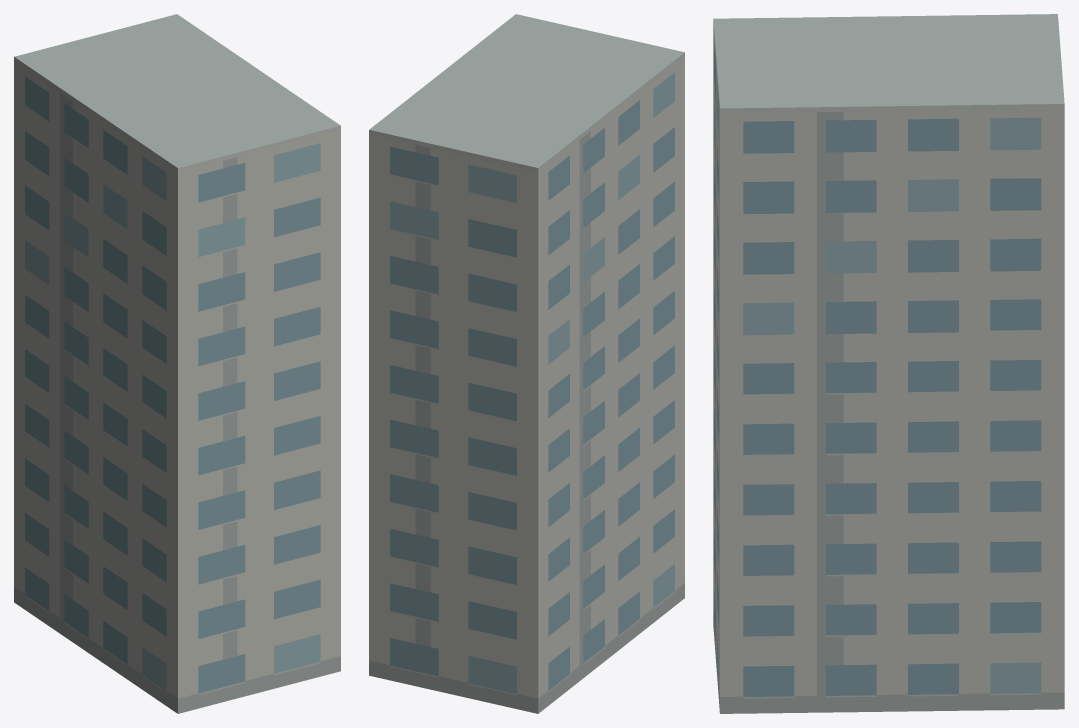
Rendered from residential-fce57227-747a-449e-b39d-3524b348dd30.glb.
3 renders of one model, left to right at view 1: azimuth 30°, elevation 25°; view 2: azimuth 150°, elevation 25°; view 3: azimuth 270°, elevation 25°, orthographic. The views are drawn at different scales.
Parts seen in each view (by area): view 1: residential-fce57227-747a-449e-b39d-3524b348dd30.tmp; view 2: residential-fce57227-747a-449e-b39d-3524b348dd30.tmp; view 3: residential-fce57227-747a-449e-b39d-3524b348dd30.tmp.
Part boxes in pixels (box(x1,y1,x2,y2)): residential-fce57227-747a-449e-b39d-3524b348dd30.tmp: box(14, 14, 340, 713); residential-fce57227-747a-449e-b39d-3524b348dd30.tmp: box(369, 14, 684, 713); residential-fce57227-747a-449e-b39d-3524b348dd30.tmp: box(713, 14, 1064, 713).
Size of the model in its own units: 10.05 by 30 by 15.79.
